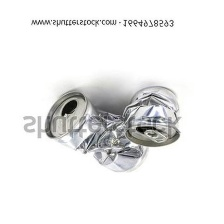can: (41, 87, 150, 180), (121, 83, 185, 150)
